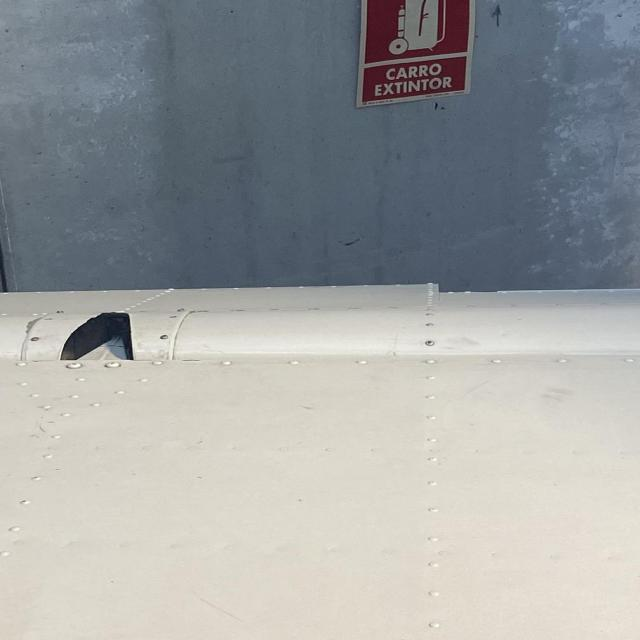Paint-off: (24, 319, 38, 337)
